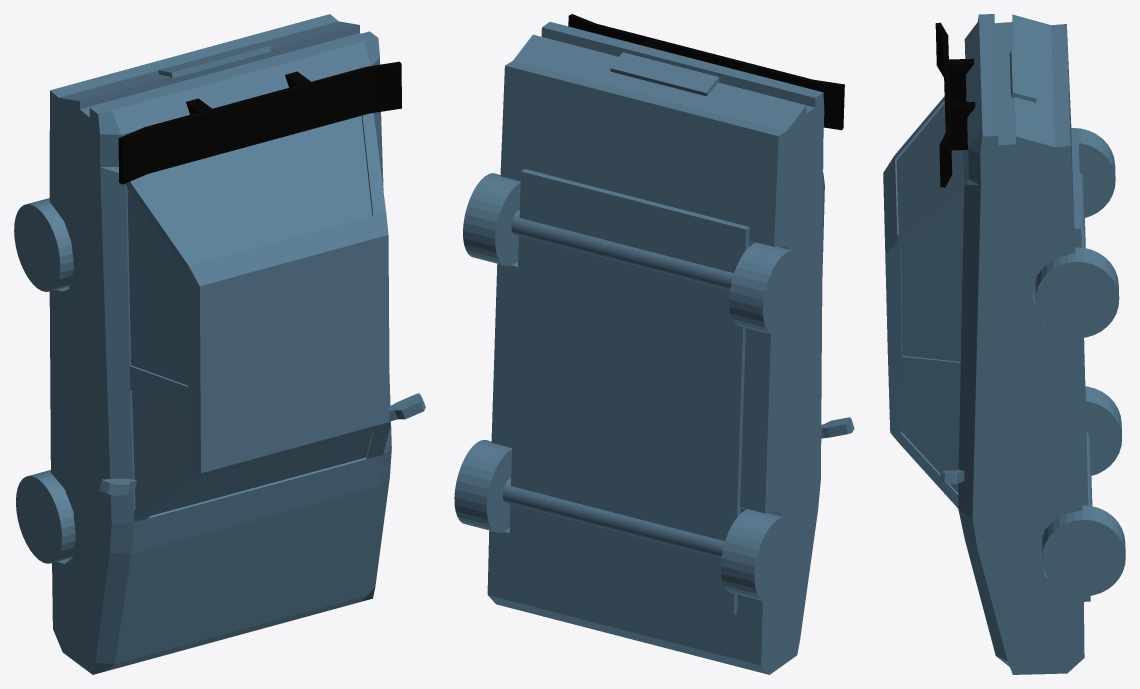
File: gray_car.obj
3 views of the same model, side by side, from view 1: azimuth 30°, elevation 25°; view 2: azimuth 150°, elevation 25°; view 3: azimuth 270°, elevation 25° (orthographic). The views are drawn at different scales.
Visible parts, largest first — view 1: Cylinder.001, Cube.002; view 2: Cylinder.001, Cube.002; view 3: Cylinder.001, Cube.002.
Part boxes in pixels (bbox=[...]): Cylinder.001: bbox=[14, 14, 425, 674]; Cube.002: bbox=[118, 61, 401, 184]; Cylinder.001: bbox=[454, 22, 854, 674]; Cube.002: bbox=[568, 14, 844, 130]; Cylinder.001: bbox=[883, 14, 1125, 674]; Cube.002: bbox=[935, 22, 975, 187].
Size of the model in its own units: 2.31 by 3.96 by 1.61.
